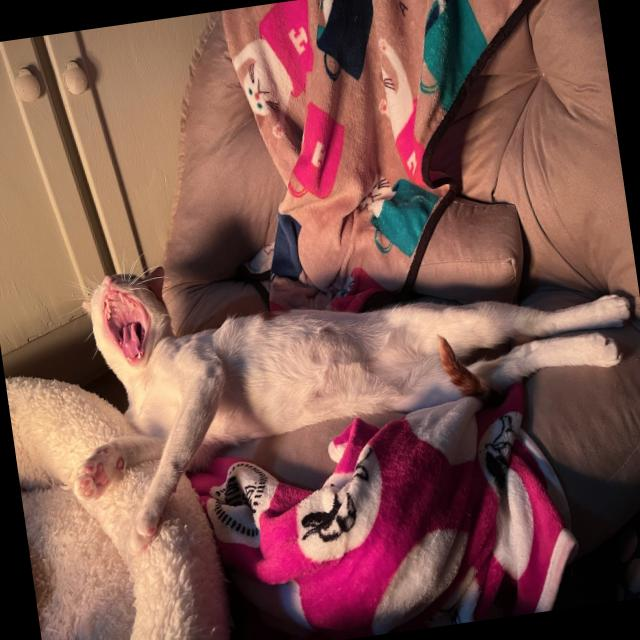cat1: (42, 199, 640, 513)
